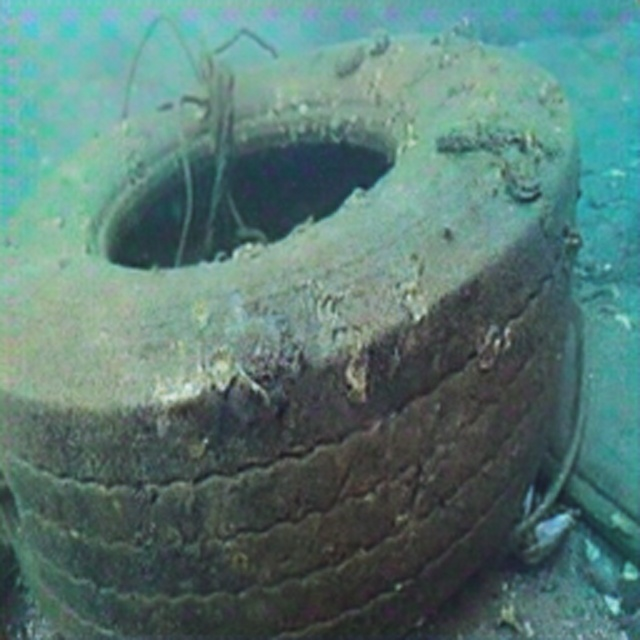mine: (0, 28, 581, 639)
